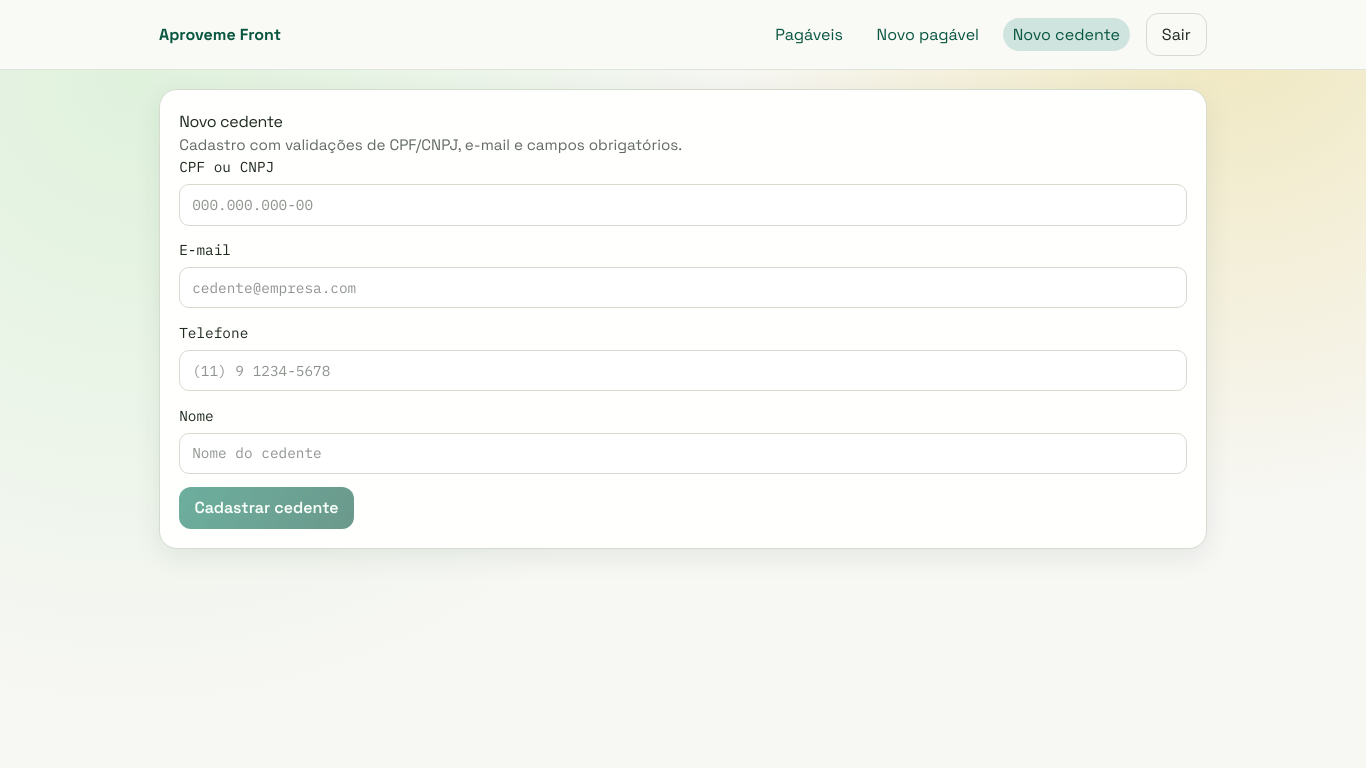
Test: NewAssignorPage › shows validation errors when submitting with invalid data
Type invalid document to enable the button visually and trigger onSubmit
Type "111.111.111-11" into the field with placeholder "000.000.000-00" at x=683, y=205, box x1=179 y1=184 x2=1187 y2=226
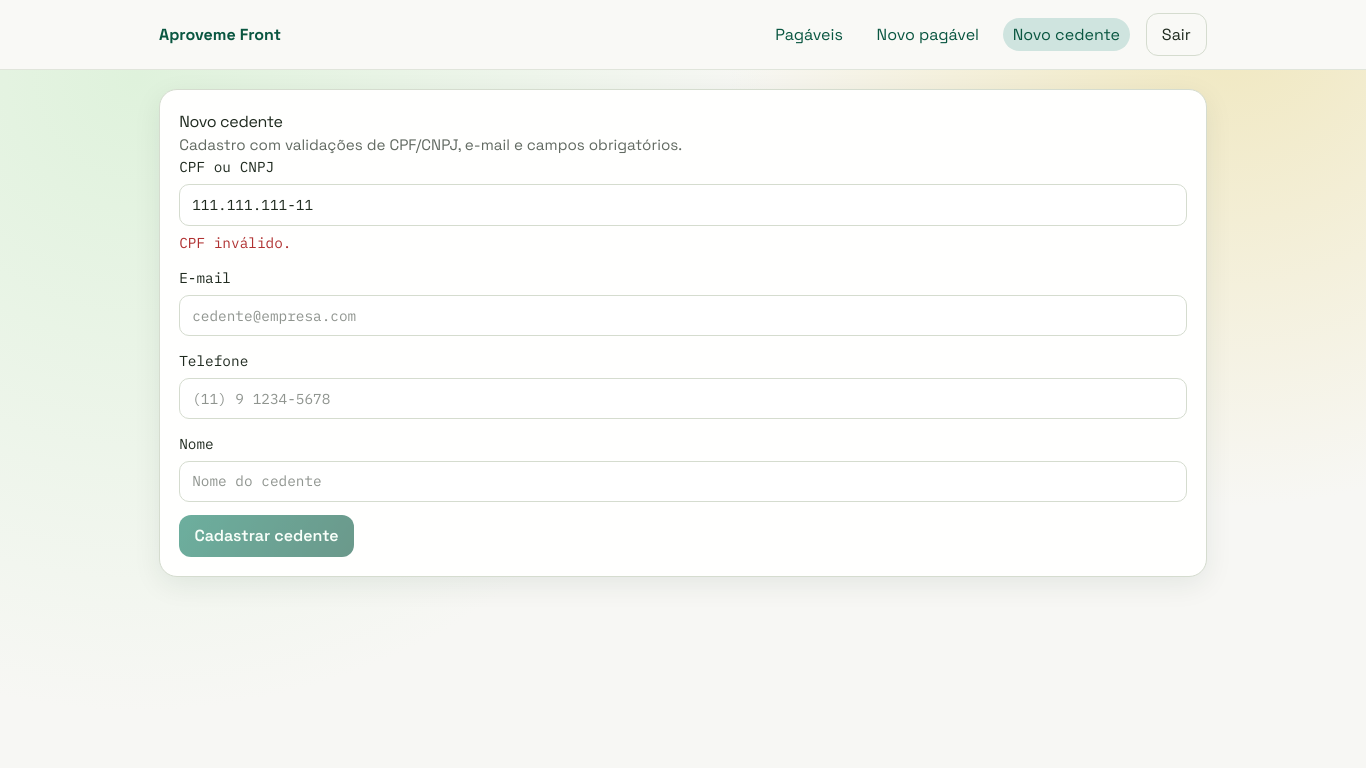
Type "invalid-email" into the field with placeholder "cedente@empresa.com" at x=683, y=316, box x1=179 y1=295 x2=1187 y2=336
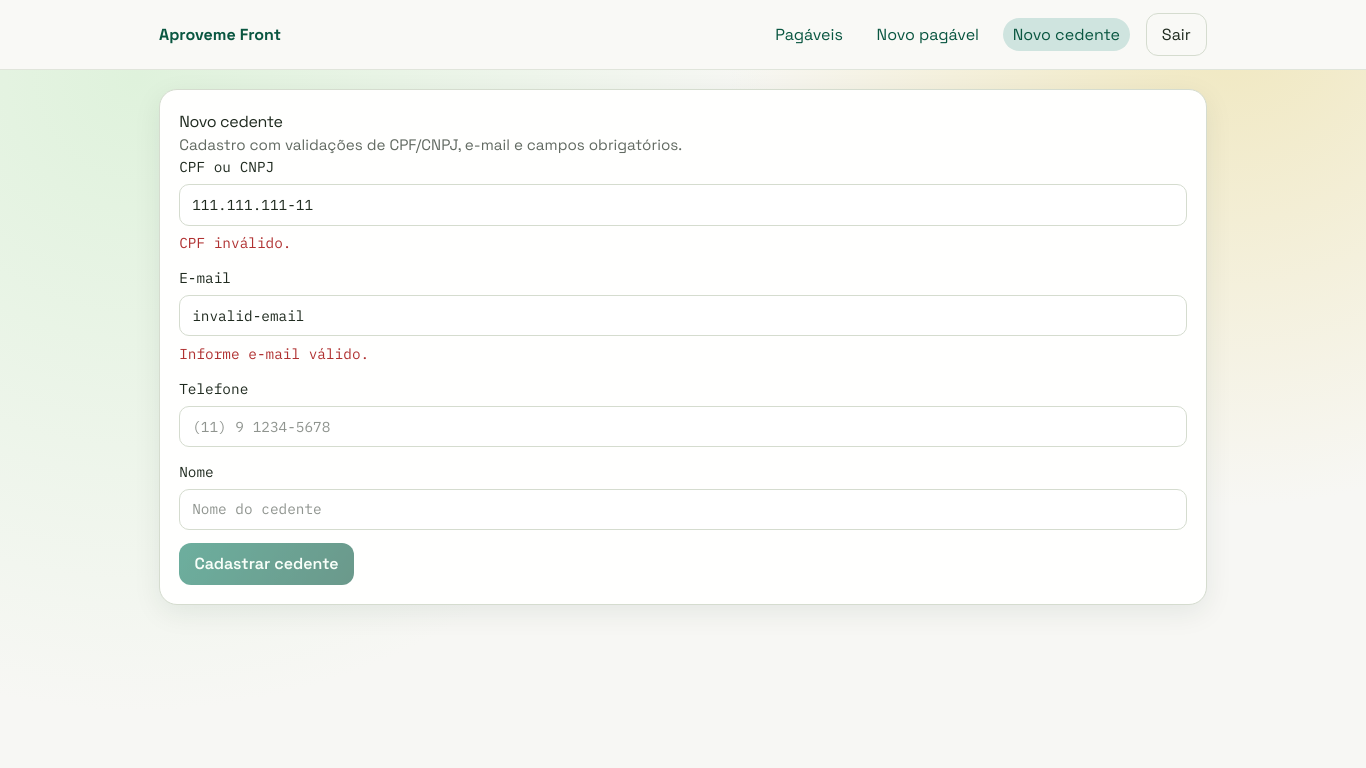
Type "123" into the field with placeholder "(11) 9 1234-5678" at x=683, y=426, box x1=179 y1=406 x2=1187 y2=447
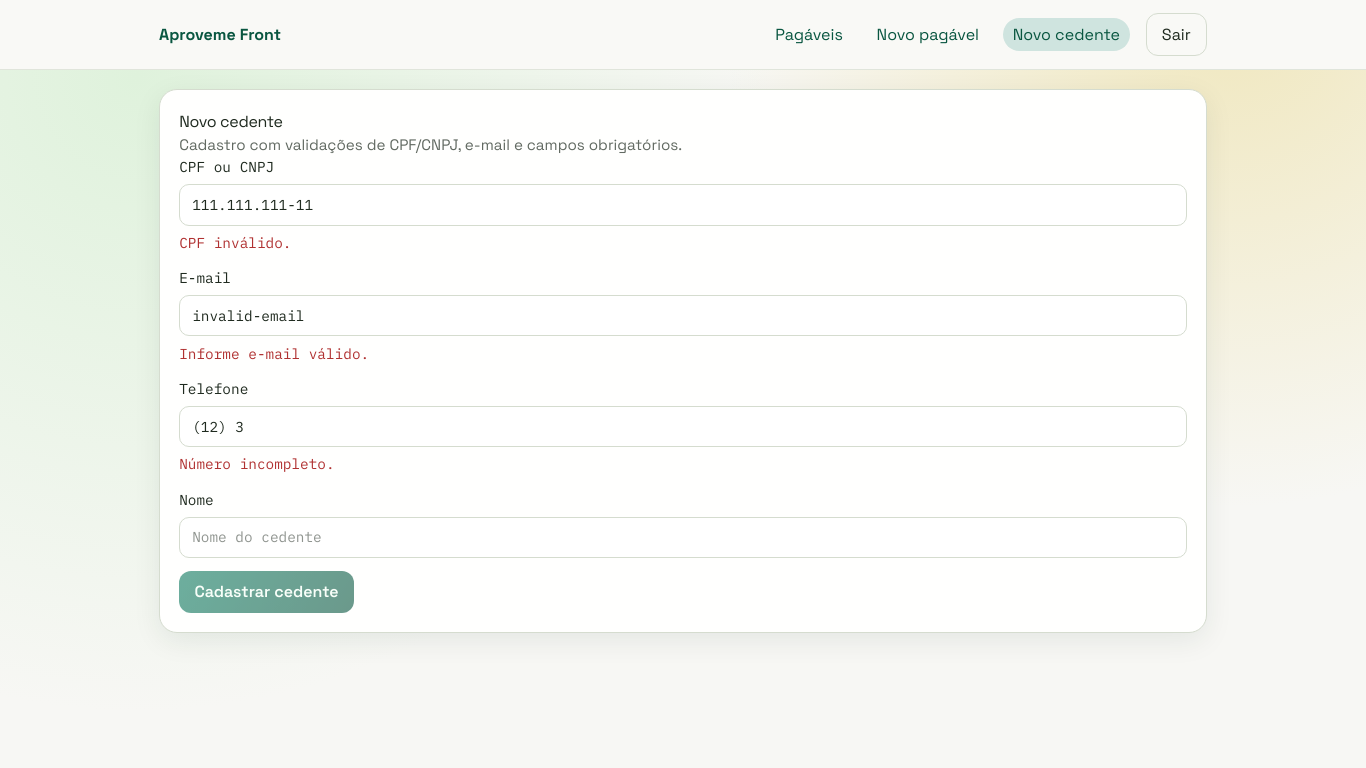
Type "A" into the field with placeholder "Nome do cedente" at x=683, y=537, box x1=179 y1=517 x2=1187 y2=558
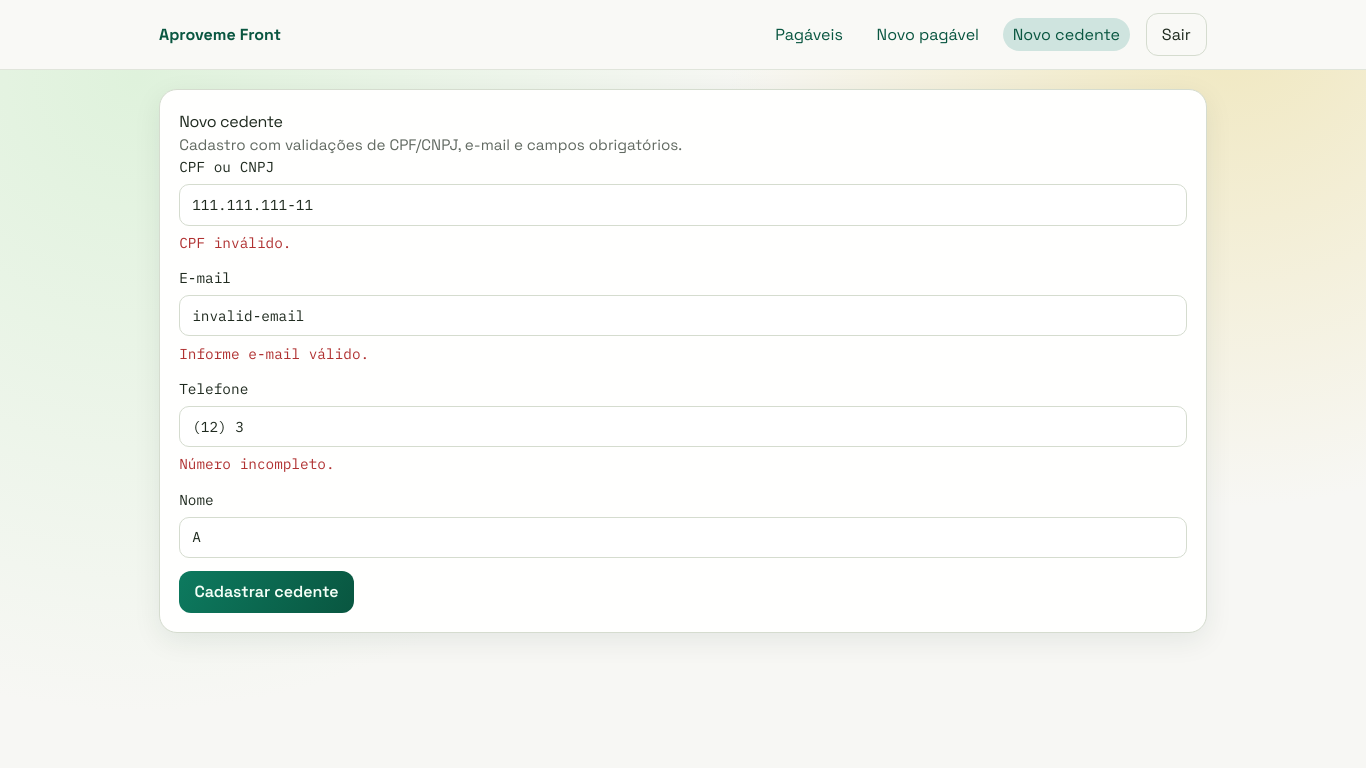
Force submit via form since button may still be disabled due to invalid input state
Submit the form named "Cadastrar cedente", box x1=179 y1=156 x2=1187 y2=613
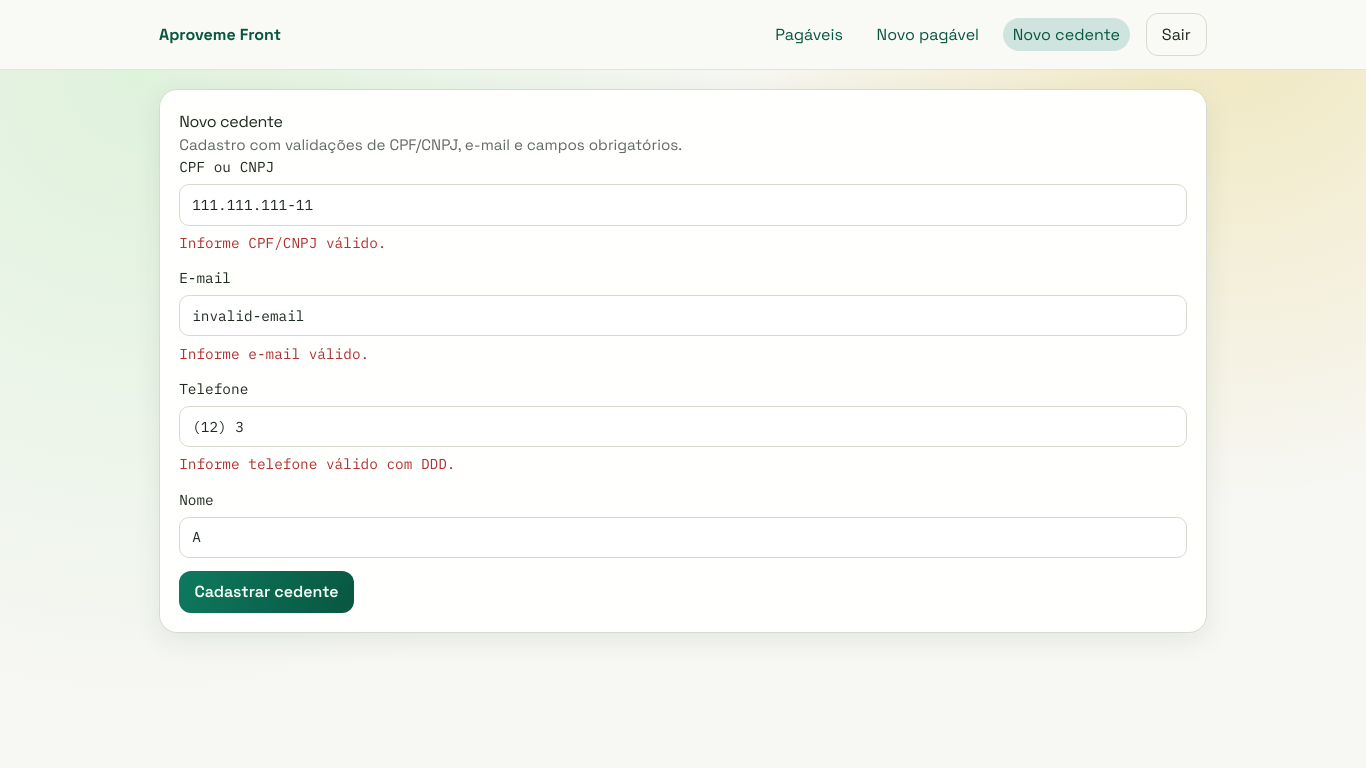
Check: the text "Informe CPF/CNPJ válido." is shown, box x1=179 y1=233 x2=386 y2=252
